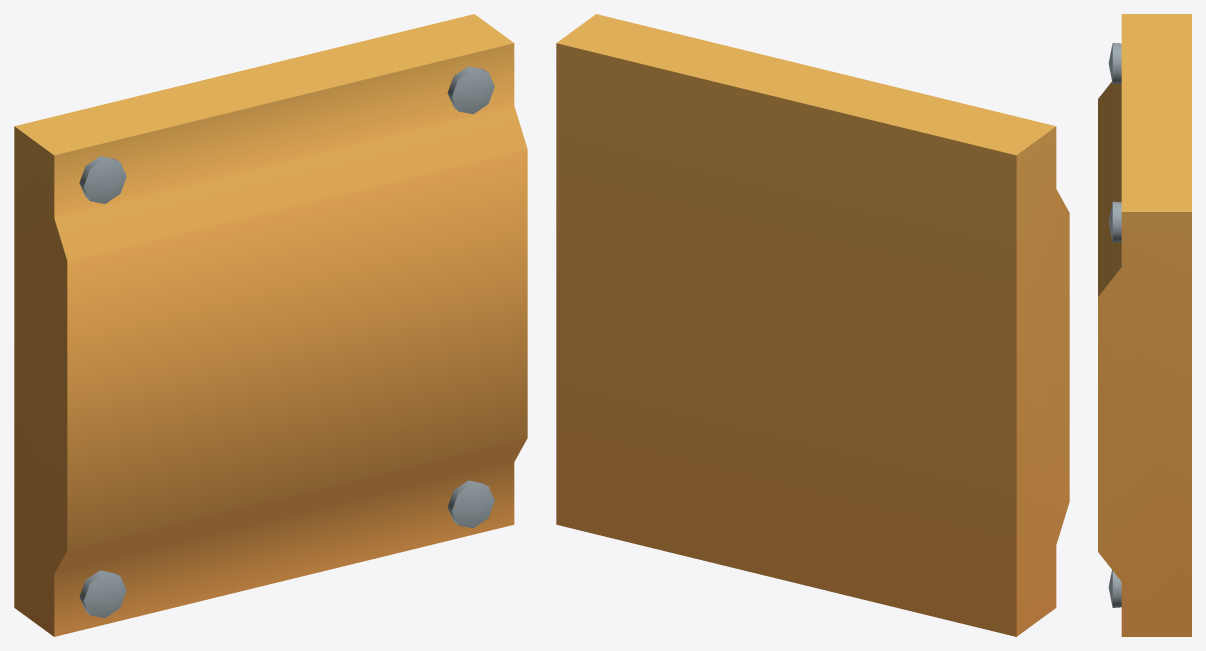
Rendered from bracing_large_yellow.glb.
3 renders of one model, left to right at view 1: azimuth 30°, elevation 25°; view 2: azimuth 150°, elevation 25°; view 3: azimuth 270°, elevation 25°, orthographic. The views are drawn at different scales.
Visible parts, largest first — view 1: bracing_large_yellow; view 2: bracing_large_yellow; view 3: bracing_large_yellow.
Boxes of the visible parts, x1,y1,x2,y2 form: bracing_large_yellow: [14, 14, 527, 636]; bracing_large_yellow: [556, 14, 1069, 636]; bracing_large_yellow: [1098, 14, 1191, 636].
Size of the model in its own units: 1 by 1 by 0.2.
Materials: 1 (1 with a texture image).
